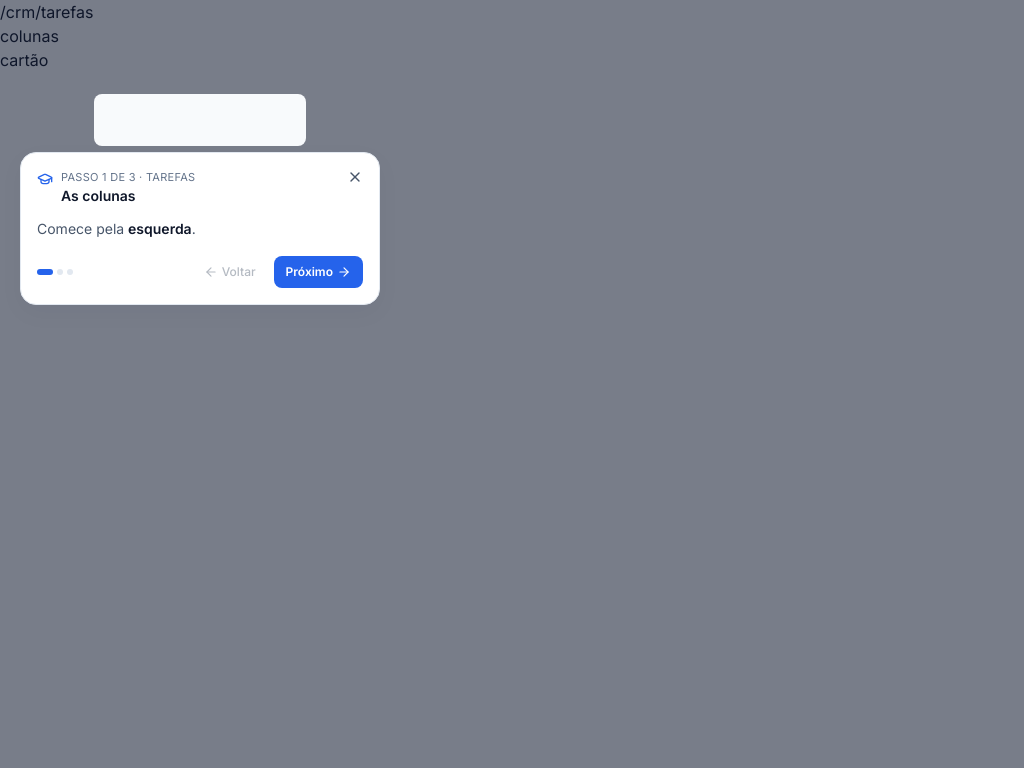
Tour guiado › abre o cartão no passo que pede, e voltar fecha
Check: the element with test id "tour-recorte" is shown, box [94,94,306,146]
Click the button "Próximo". click: (318, 272)
box: [274,256,363,288]
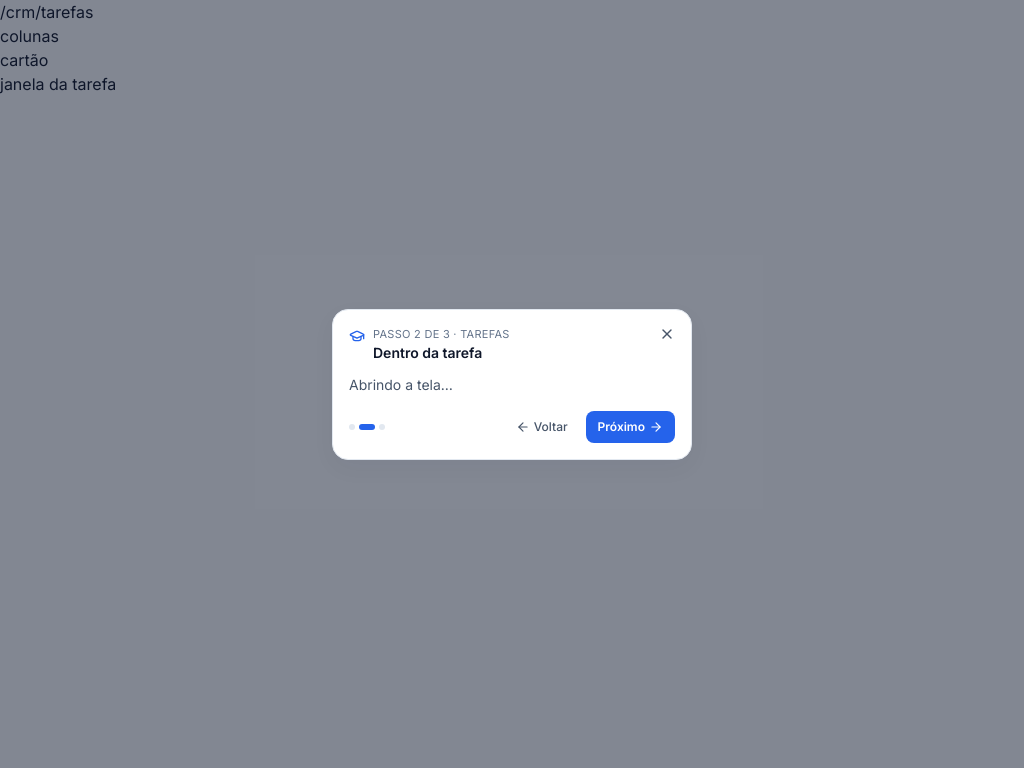
Check: the text "janela da tarefa" is shown, box [0,74,116,94]
Check: the text "Passo 2 de 3 · Tarefas" is shown, box [373,327,510,341]
Click the button "Voltar". click: (542, 426)
box: [506,410,578,442]
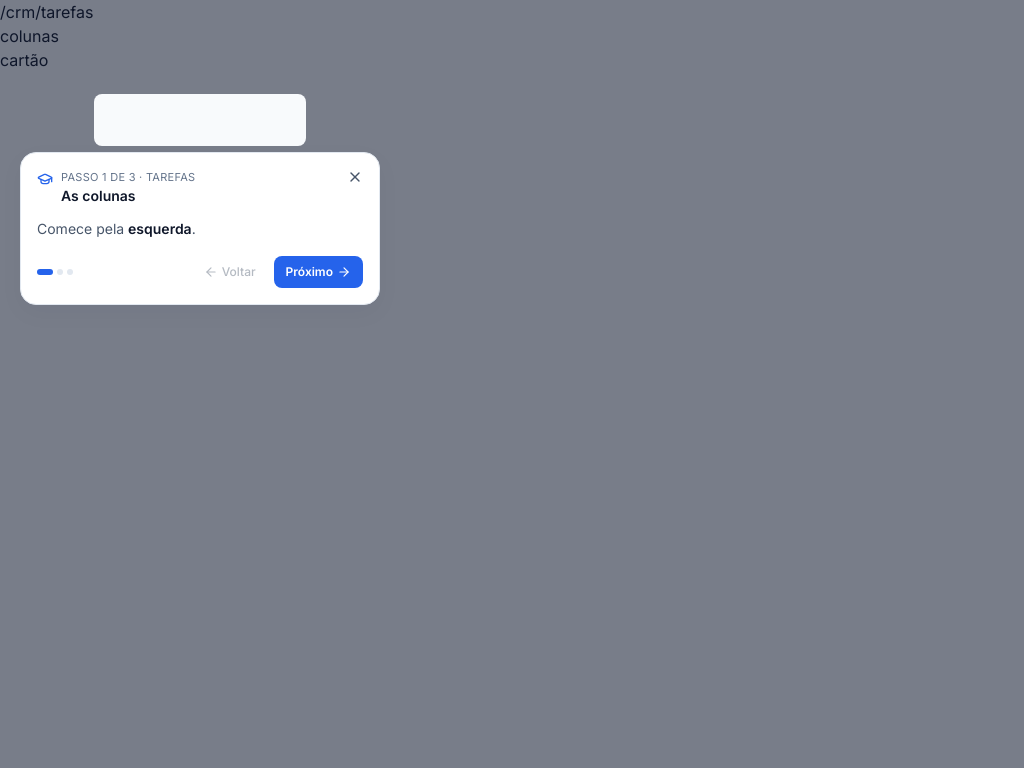
Check: the text "janela da tarefa" is gone
Check: the text "Passo 1 de 3 · Tarefas" is shown, box [61,170,196,184]
